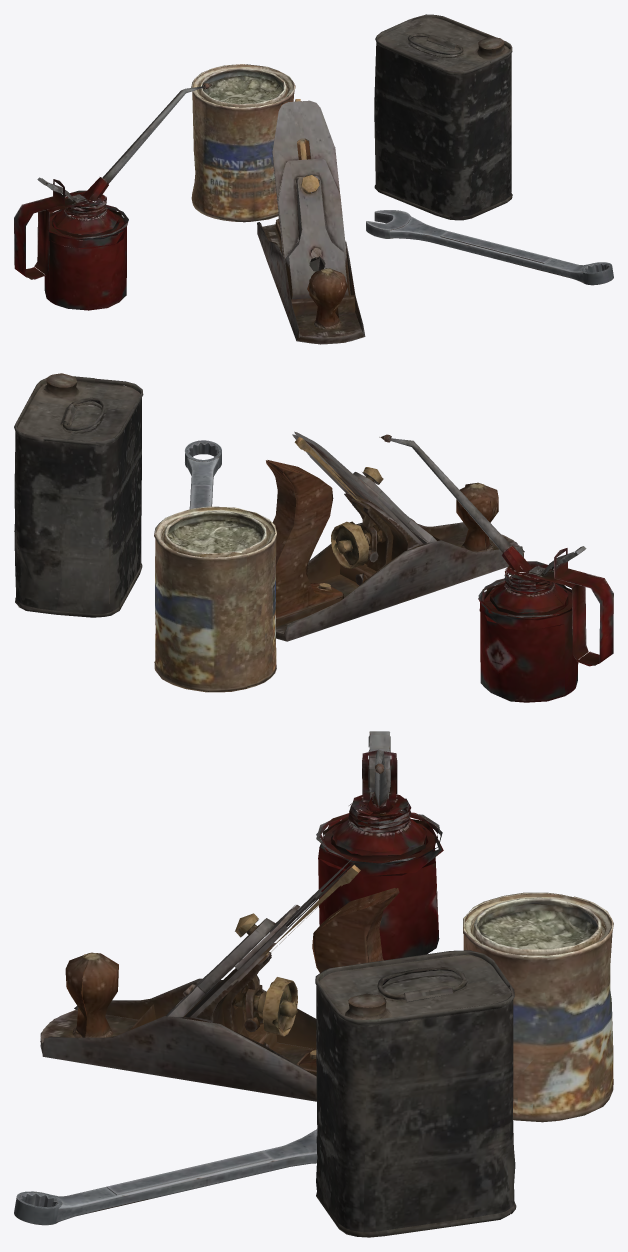
Rendered from tool_clutter.glb.
3 renders of one model, top to bottom at view 1: azimuth 30°, elevation 25°; view 2: azimuth 150°, elevation 25°; view 3: azimuth 270°, elevation 25°, orthographic. The views are drawn at different scales.
Visible parts, largest first — view 1: tool_clutter; view 2: tool_clutter; view 3: tool_clutter.
Boxes of the visible parts, box(x1,y1,x2,y2) form: tool_clutter: box(14, 14, 613, 344); tool_clutter: box(14, 373, 613, 702); tool_clutter: box(14, 731, 613, 1237).
Size of the model in its own units: 0.6702 by 0.2384 by 0.4924.
1 material, 1 textured.
